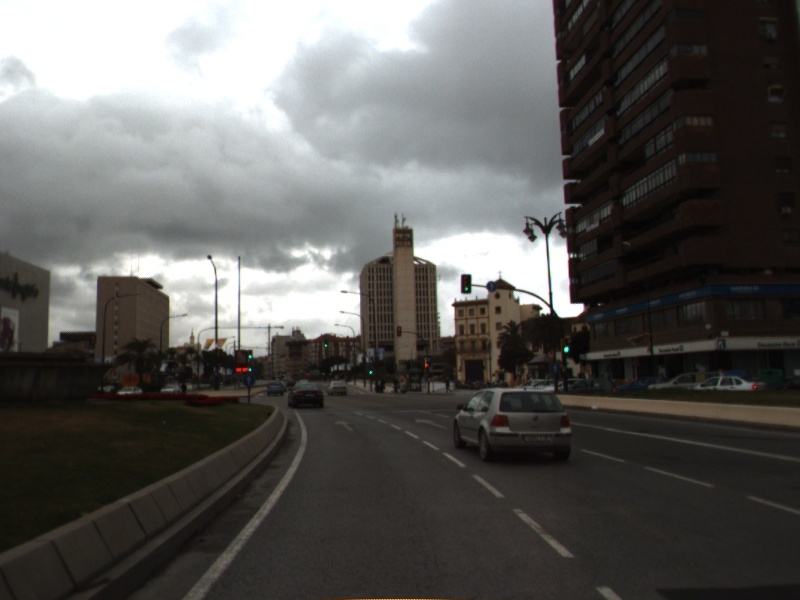STRAIGHT: (413, 415, 451, 432), (332, 417, 357, 433)
